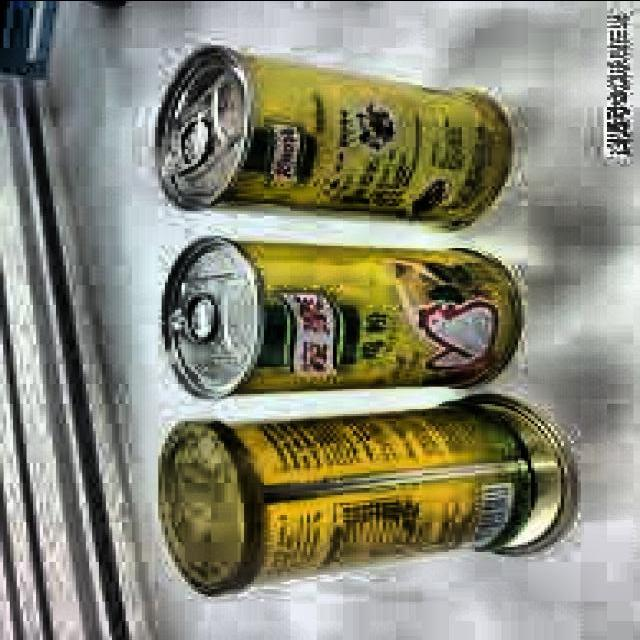litter: (142, 382, 576, 599), (132, 39, 527, 236), (150, 236, 524, 404)
